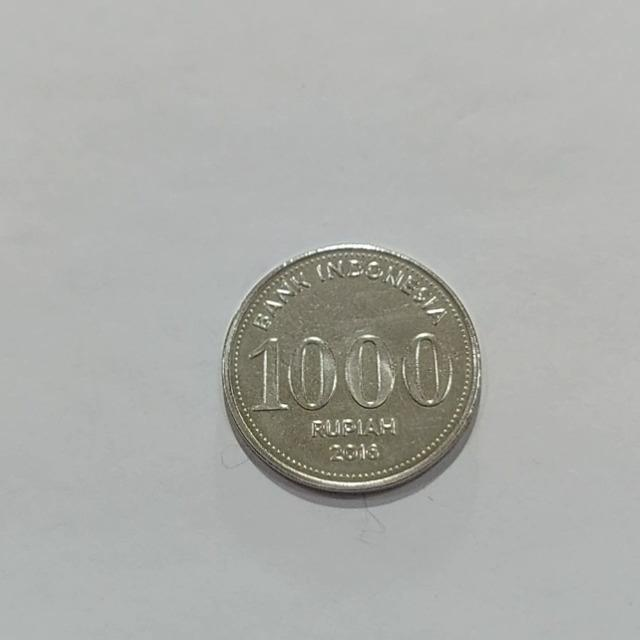Rp100: (219, 242, 483, 497)
